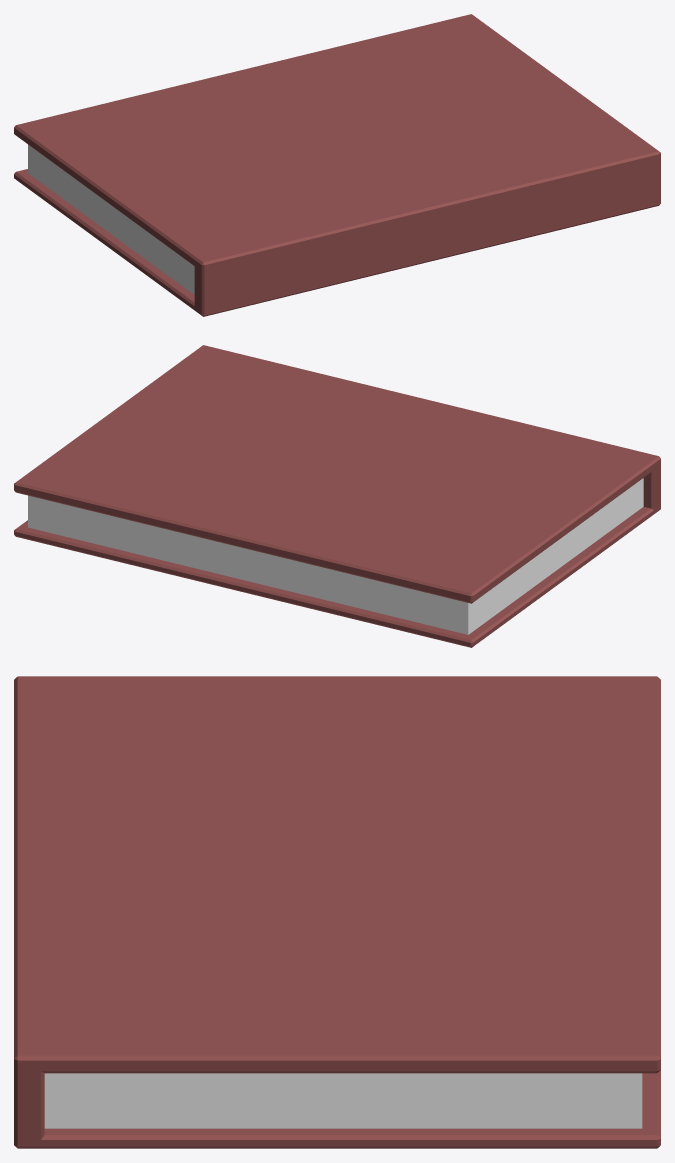
Rendered from Book (updated).fbx.
3 views of the same model, one above another, from view 1: azimuth 30°, elevation 25°; view 2: azimuth 150°, elevation 25°; view 3: azimuth 270°, elevation 25° (orthographic). The views are drawn at different scales.
Visible parts, largest first — view 1: Book; view 2: Book; view 3: Book.
Part boxes in pixels (x1,y1,x2,y2): Book: (14,14,660,316); Book: (14,345,660,647); Book: (14,676,660,1148).
Bounding box in the file's own units: 145 × 16.42 × 104.
